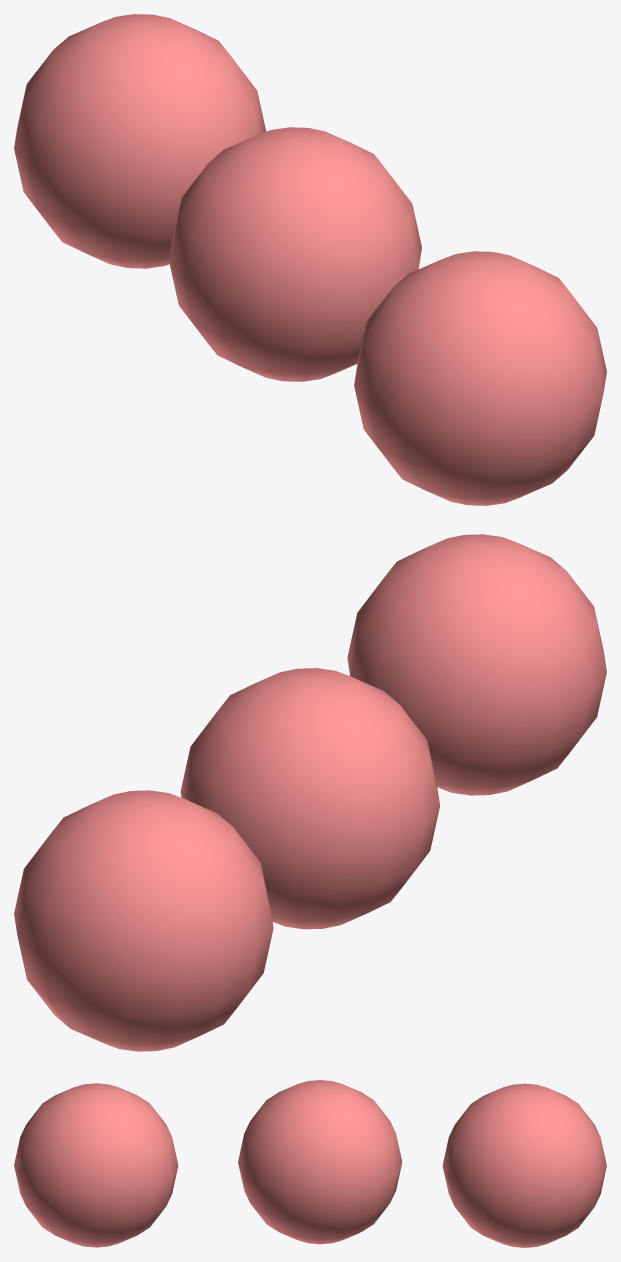
Rendered from balls_mid_top.glb.
The picture shows the model from 3 angles, top to bottom: view 1: azimuth 30°, elevation 25°; view 2: azimuth 150°, elevation 25°; view 3: azimuth 270°, elevation 25°; orthographic projection. The views are drawn at different scales.
Visible parts, largest first — view 1: Sphere001, Sphere001.001, Sphere001.002; view 2: Sphere001.002, Sphere001, Sphere001.001; view 3: Sphere001.002, Sphere001, Sphere001.001.
Boxes of the visible parts, <box> form: Sphere001: <box>354,251,606,505</box>; Sphere001.001: <box>169,127,421,381</box>; Sphere001.002: <box>14,14,266,268</box>; Sphere001.002: <box>14,790,273,1051</box>; Sphere001: <box>347,534,606,795</box>; Sphere001.001: <box>180,668,439,929</box>; Sphere001.002: <box>442,1083,606,1247</box>; Sphere001: <box>14,1083,178,1247</box>; Sphere001.001: <box>238,1080,402,1244</box>.
Bounding box in the file's own units: 0.00976 × 0.00946 × 0.0335.
